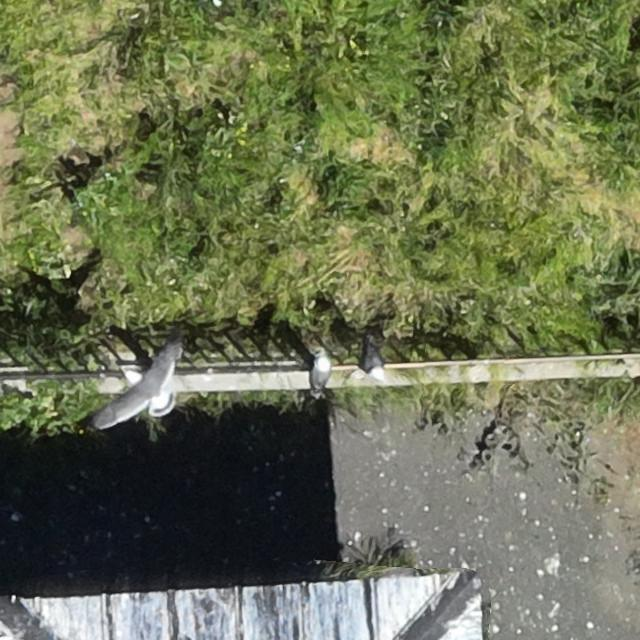F: (103, 354, 178, 427)
umineko: (363, 342, 387, 381), (311, 356, 329, 387)
